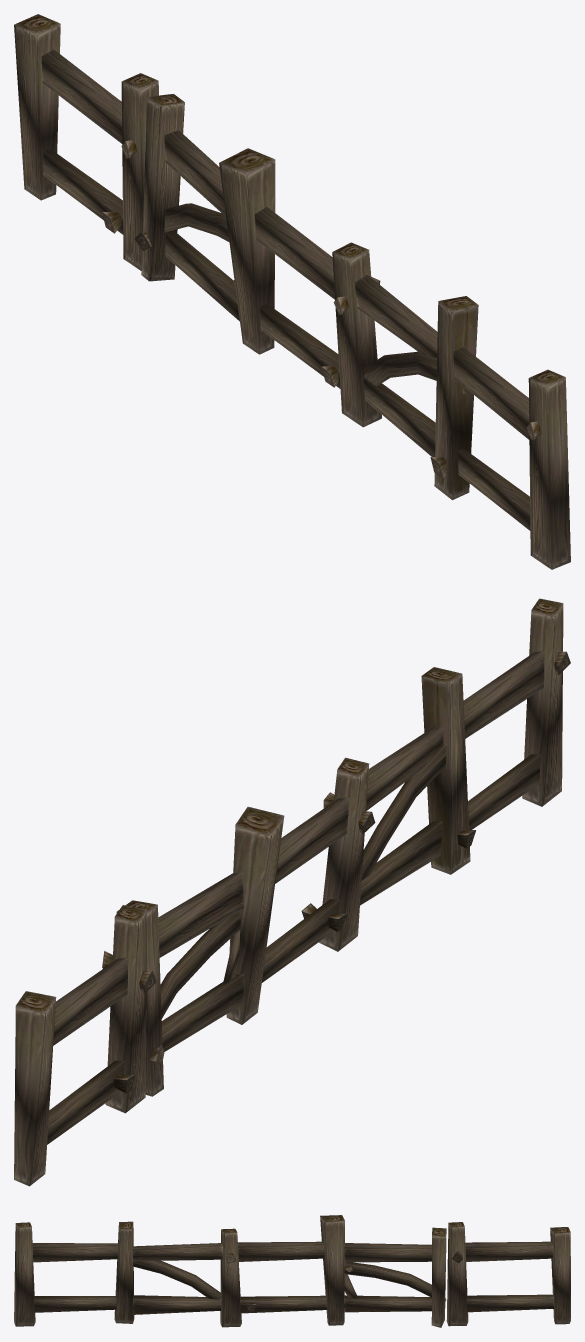
3 views of the same model, one above another, from view 1: azimuth 30°, elevation 25°; view 2: azimuth 150°, elevation 25°; view 3: azimuth 270°, elevation 25° (orthographic). The views are drawn at different scales.
Bounding box in the file's own units: 0.7924 × 2.8 × 13.55.
Materials: 1 (1 with a texture image).
